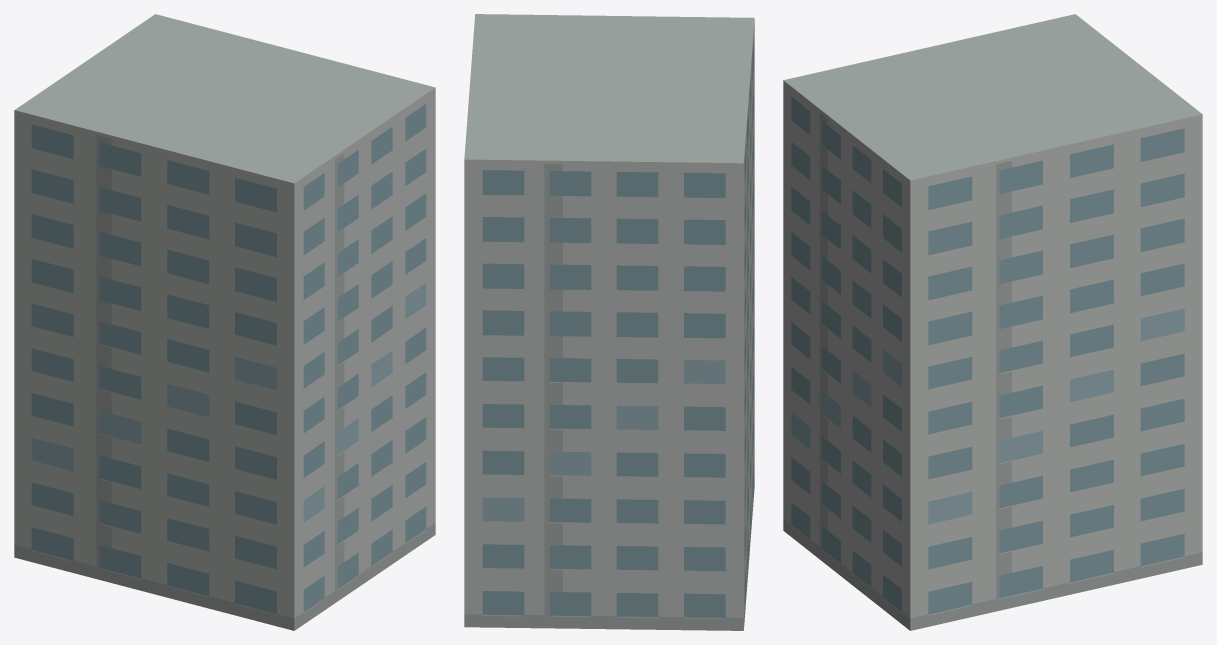
File: residential-809dc322-db77-4578-93d6-589ed8d5afda.glb
The picture shows the model from 3 angles, left to right: view 1: azimuth 30°, elevation 25°; view 2: azimuth 150°, elevation 25°; view 3: azimuth 270°, elevation 25°; orthographic projection. The views are drawn at different scales.
Parts seen in each view (by area): view 1: residential-809dc322-db77-4578-93d6-589ed8d5afda.tmp; view 2: residential-809dc322-db77-4578-93d6-589ed8d5afda.tmp; view 3: residential-809dc322-db77-4578-93d6-589ed8d5afda.tmp.
Part boxes in pixels (x1,y1,x2,y2): residential-809dc322-db77-4578-93d6-589ed8d5afda.tmp: (14,14,435,630); residential-809dc322-db77-4578-93d6-589ed8d5afda.tmp: (464,14,754,630); residential-809dc322-db77-4578-93d6-589ed8d5afda.tmp: (783,14,1202,630).
Bounding box in the file's own units: 26.17 × 33 × 27.86.
